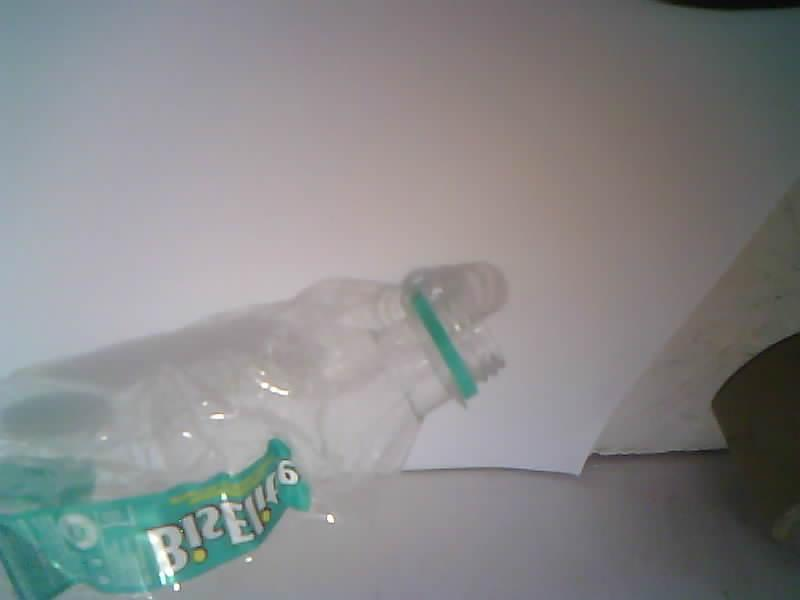non-biodegradable: (0, 269, 503, 599)
